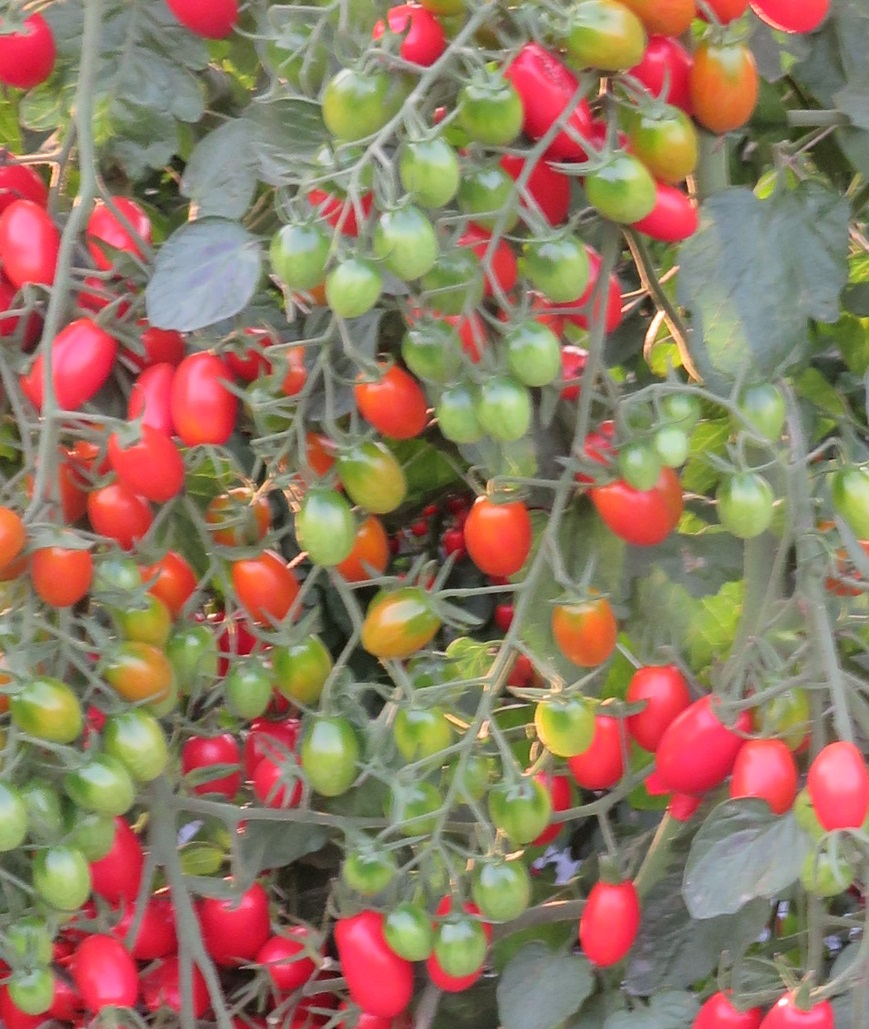green: (556, 1, 653, 74), (357, 586, 451, 659), (5, 676, 87, 751), (320, 65, 398, 140), (288, 494, 366, 568), (27, 837, 101, 912), (335, 440, 408, 515), (394, 134, 458, 210), (298, 712, 357, 793), (639, 102, 700, 178), (456, 164, 522, 233), (712, 467, 773, 540), (586, 161, 656, 224), (419, 250, 486, 315), (458, 81, 522, 148), (521, 239, 589, 300), (372, 208, 437, 268), (389, 703, 454, 763), (504, 326, 567, 387), (469, 856, 531, 917), (265, 230, 325, 293), (380, 778, 446, 835), (107, 719, 171, 777), (533, 699, 596, 757), (431, 916, 489, 979), (494, 781, 551, 843), (180, 634, 232, 701), (67, 766, 139, 814), (405, 325, 462, 383), (483, 382, 537, 443), (222, 664, 280, 720), (324, 260, 382, 313), (738, 380, 787, 442), (828, 468, 869, 541), (113, 596, 173, 645), (340, 846, 396, 896), (436, 384, 479, 448), (280, 643, 325, 703), (381, 909, 434, 959), (447, 750, 490, 803), (9, 967, 54, 1016), (617, 443, 655, 491), (1, 784, 28, 851), (11, 920, 57, 958), (79, 825, 121, 857), (655, 431, 682, 469)
orange: (695, 44, 762, 135), (591, 475, 684, 540), (461, 496, 530, 579), (229, 550, 299, 628), (357, 366, 430, 437), (26, 544, 94, 612), (112, 640, 177, 705), (555, 608, 617, 669), (209, 487, 269, 547), (95, 496, 156, 555), (140, 553, 197, 614), (349, 518, 389, 579), (1, 507, 25, 566)
red: (649, 693, 748, 792), (23, 314, 116, 415), (330, 913, 411, 1013), (196, 875, 271, 961), (575, 883, 644, 970), (108, 423, 185, 500), (804, 742, 869, 831), (174, 352, 234, 448), (505, 144, 574, 224), (1, 198, 60, 289), (628, 667, 690, 752), (734, 734, 797, 813), (74, 936, 144, 1005), (89, 197, 155, 270), (89, 819, 149, 897), (136, 955, 208, 1017), (1, 12, 57, 89), (256, 926, 320, 989), (639, 184, 701, 241), (128, 357, 174, 426), (163, 1, 239, 41), (746, 1, 832, 35), (758, 991, 833, 1029), (693, 989, 763, 1029), (667, 793, 702, 826)
